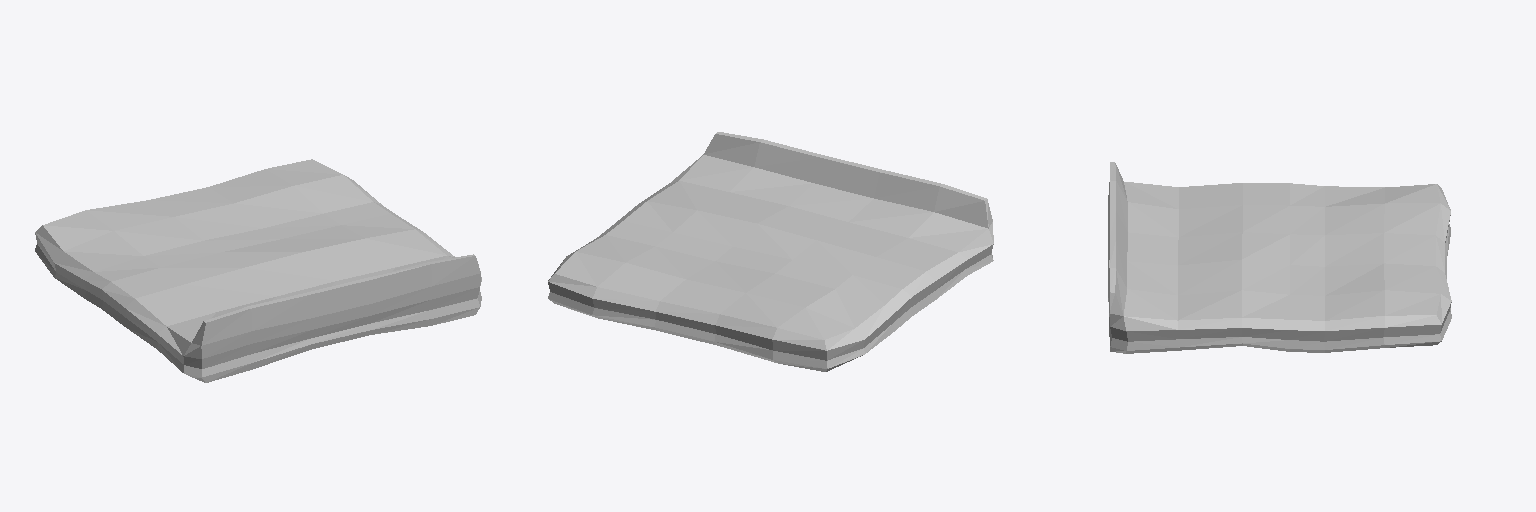
The model's file is platform3platform_4.OBJ.
The picture shows the model from 3 angles: view 1: azimuth 30°, elevation 25°; view 2: azimuth 150°, elevation 25°; view 3: azimuth 270°, elevation 25°; orthographic projection.
Visible parts, largest first — view 1: Group2; view 2: Group2; view 3: Group2.
Boxes of the visible parts, box(x1,y1,x2,y2) form: Group2: box(35, 159, 481, 382); Group2: box(548, 132, 993, 371); Group2: box(1108, 162, 1451, 353).
Bounding box in the file's own units: 4.42 × 0.9123 × 4.41.